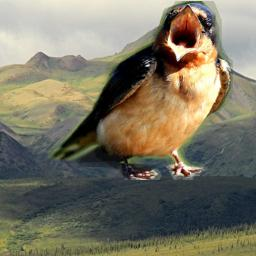Swallow: (48, 1, 233, 180)
